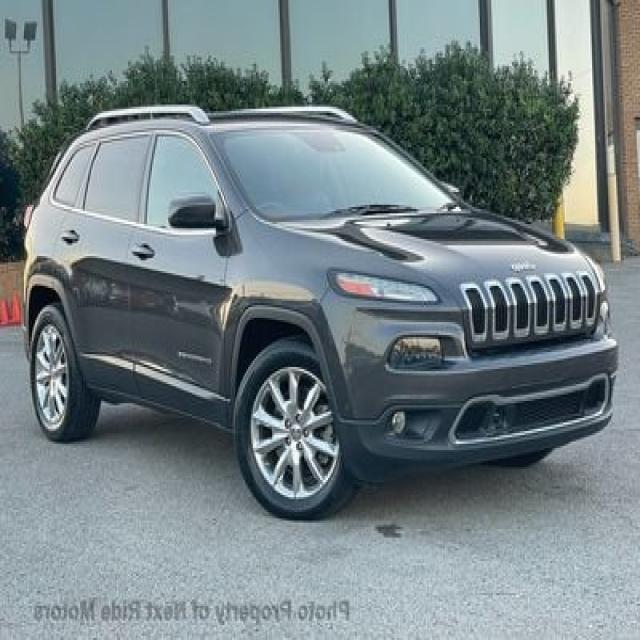Zeep: (15, 92, 619, 524)
